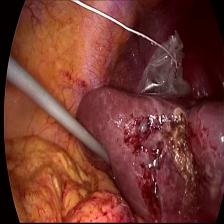Specimen Bag: (136, 24, 196, 101)
